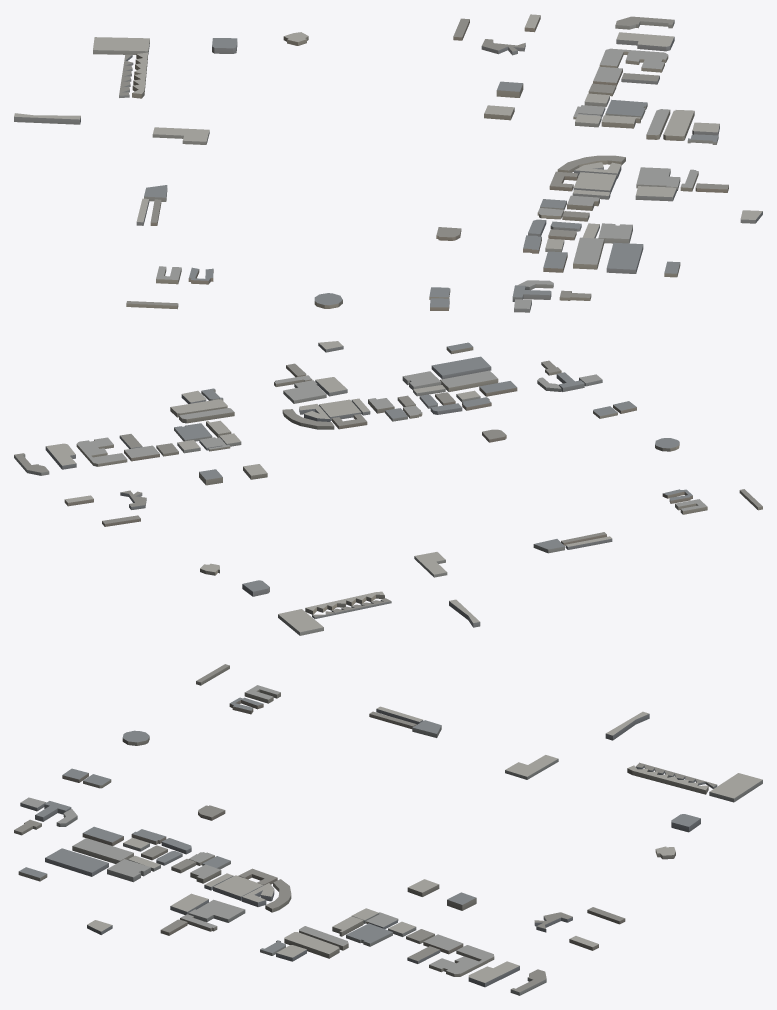
The model's file is bld_10_7.fbx.
3 renders of one model, top to bottom at view 1: azimuth 30°, elevation 25°; view 2: azimuth 150°, elevation 25°; view 3: azimuth 270°, elevation 25°, orthographic. The views are drawn at different scales.
Visible parts, largest first — view 1: bld_10_7_LOD0; view 2: bld_10_7_LOD0; view 3: bld_10_7_LOD0.
Part boxes in pixels (x1,y1,x2,y2): bld_10_7_LOD0: [14, 14, 762, 312]; bld_10_7_LOD0: [14, 341, 762, 635]; bld_10_7_LOD0: [14, 664, 762, 995].
Size of the model in its own units: 1946 by 16.82 by 1874.
